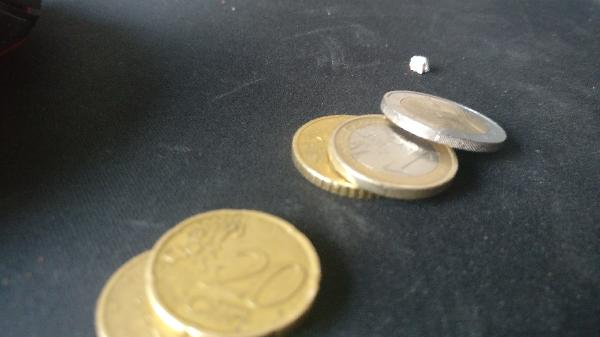Fifty Cent: (290, 112, 410, 198)
One Euro: (333, 110, 463, 197)
Twenty Cent: (148, 207, 328, 333)
Two Euro: (380, 86, 511, 155)
